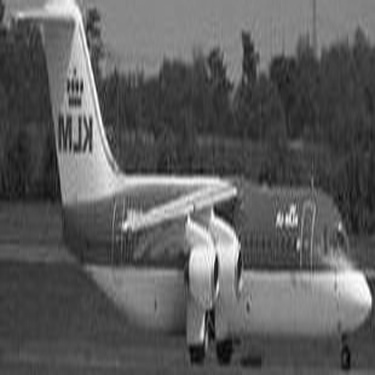airplane: (7, 1, 368, 358)
